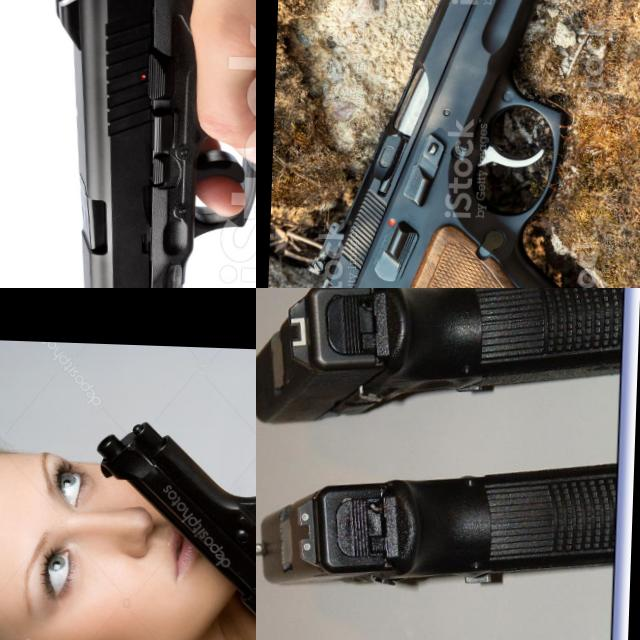handgun: (308, 0, 640, 288), (36, 0, 256, 288), (256, 447, 615, 598), (256, 288, 622, 434), (84, 412, 256, 640)
